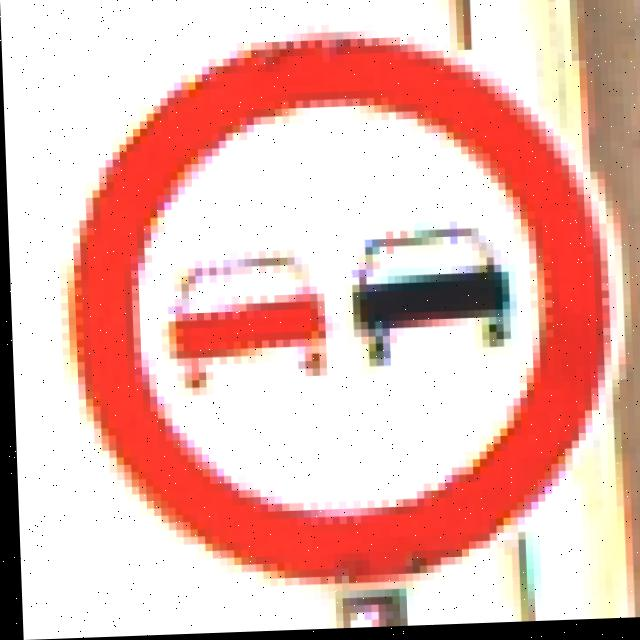no_overtaking: (72, 19, 640, 583)
